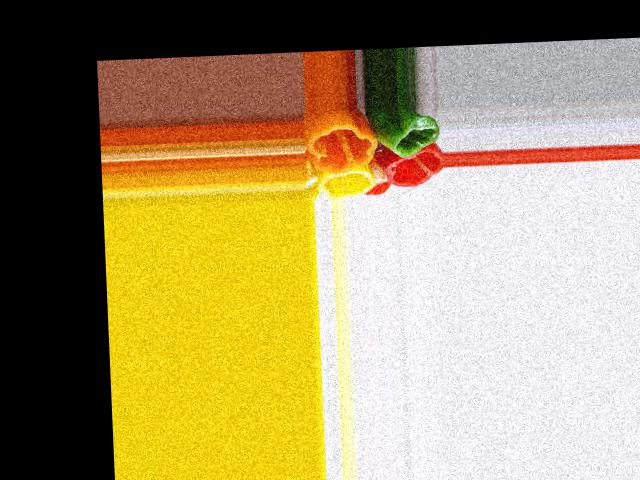bell_pepper: (384, 150, 441, 189)
